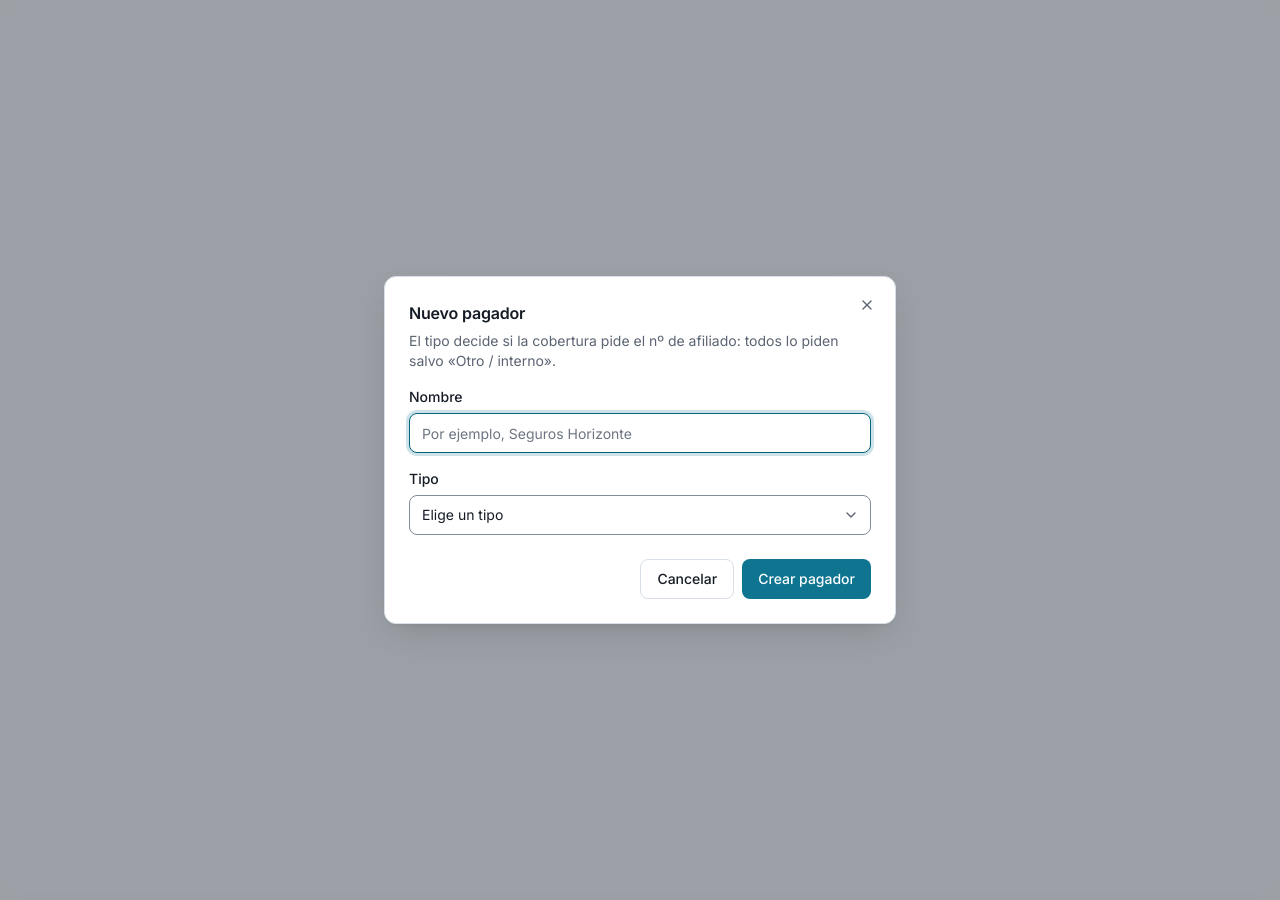
Test: PayerFormModal (DX-153) › valida el nombre antes de enviar
The width and height of the screenshot is (1280, 900).
Select "Empresa" in the dropdown labelled "Tipo" at (640,515), box top-left (409, 495), bottom-right (871, 535)
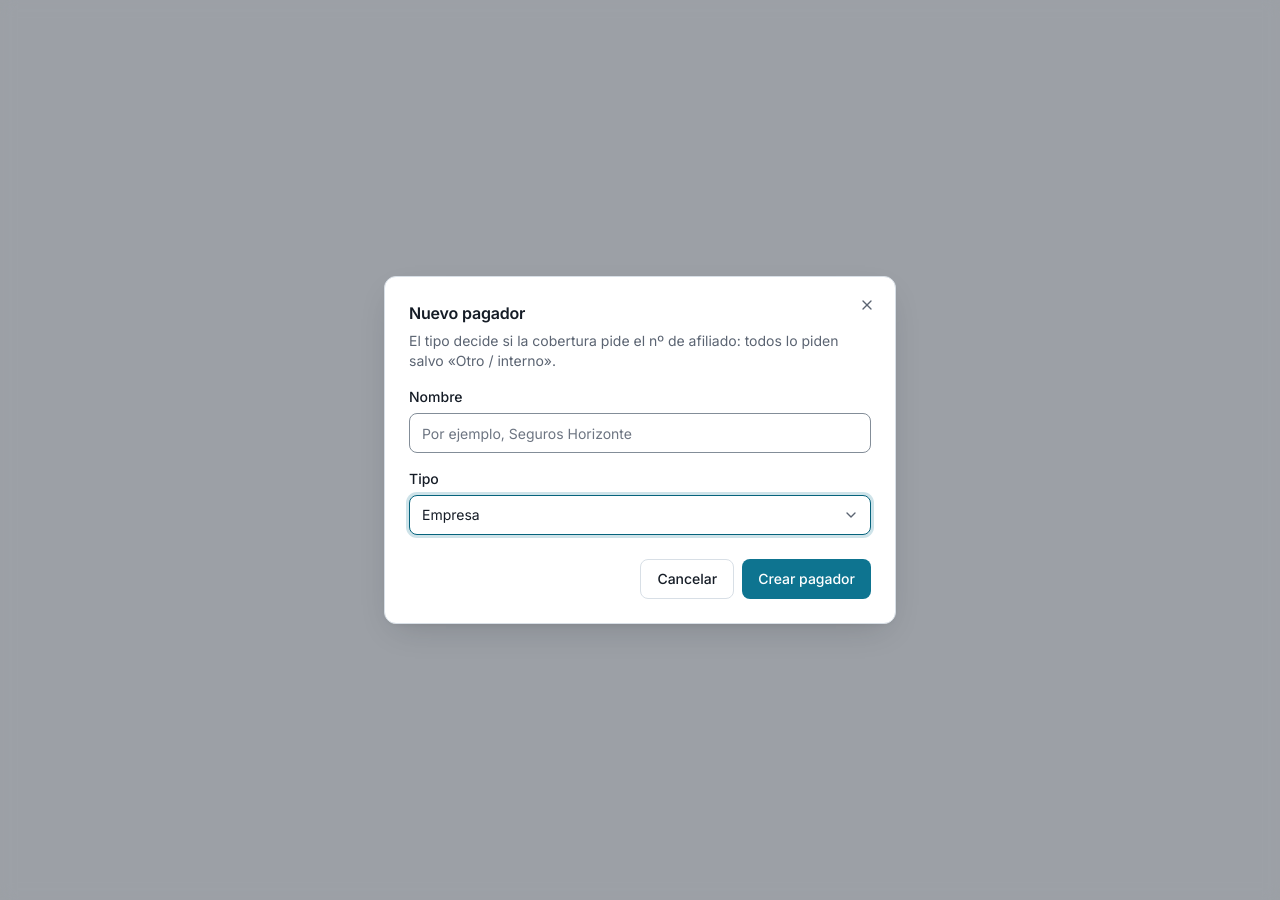
Type " a " into the field labelled "Nombre" at (640,433), box top-left (409, 413), bottom-right (871, 453)
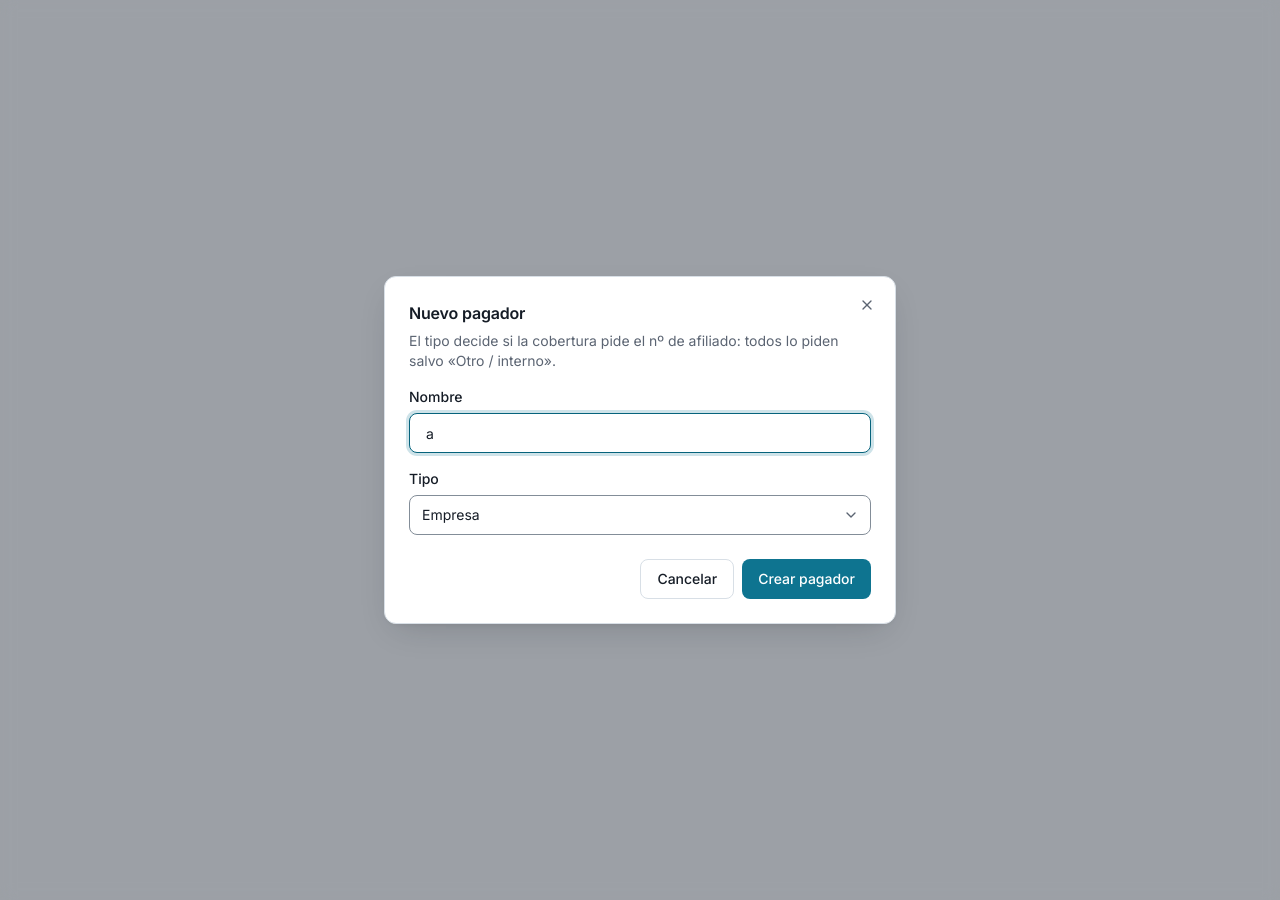
Click the button "Crear pagador" at (807,579), box top-left (742, 559), bottom-right (871, 599)
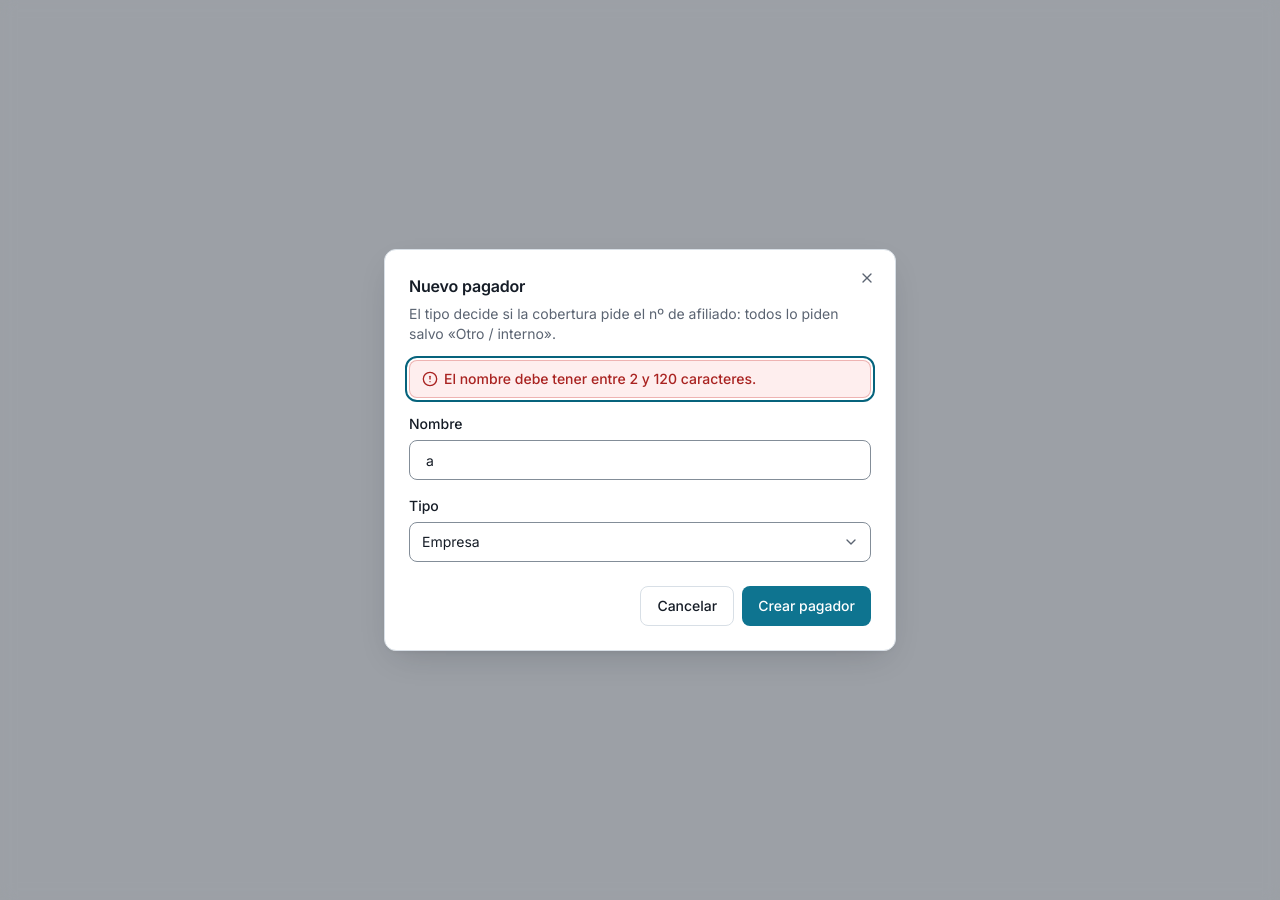
expect the text "El nombre debe tener entre 2 y 120 caracteres." is shown: met, box top-left (444, 369), bottom-right (756, 389)
